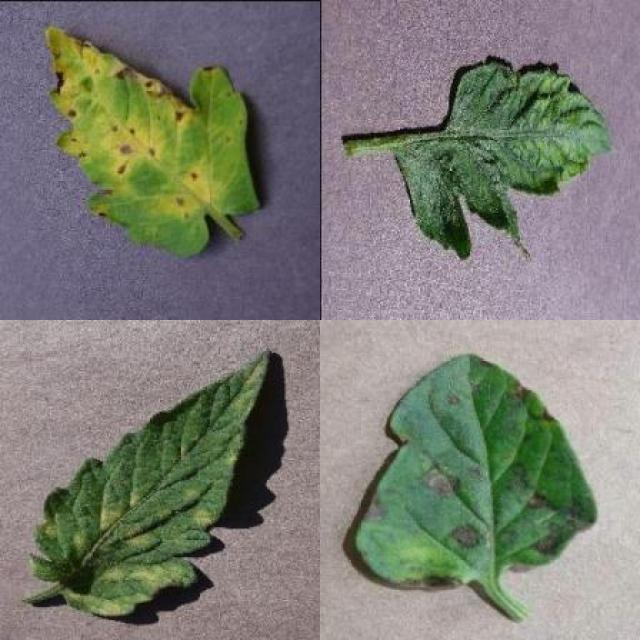Early Blight: (358, 348, 596, 593)
Leaf Mold: (32, 347, 271, 617)
Mosaic Virus: (394, 58, 620, 258)
Septoria: (44, 23, 264, 254)
